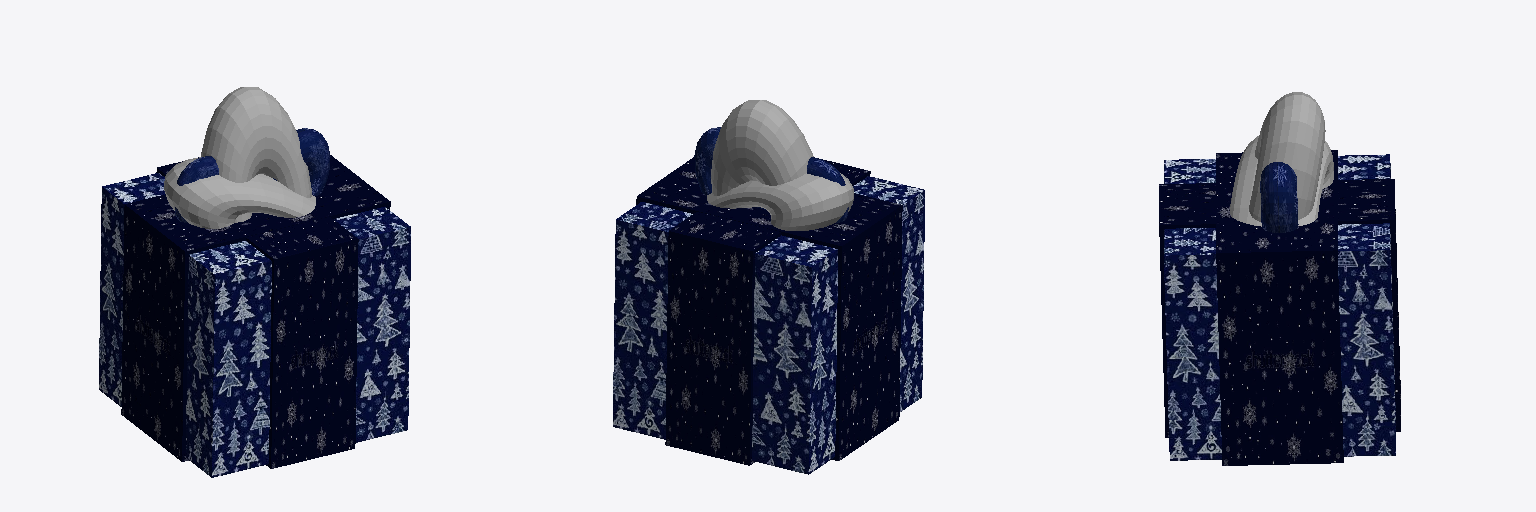
The picture shows the model from 3 angles: view 1: azimuth 30°, elevation 25°; view 2: azimuth 150°, elevation 25°; view 3: azimuth 270°, elevation 25°; orthographic projection.
Parts seen in each view (by area): view 1: present, Box1, Box, Torus3, Torus2, Torus4, Torus; view 2: present, Box1, Box, Torus3, Torus2, Torus4, Torus; view 3: Box, present, Box1, Torus3, Torus4, Torus2.
Boxes of the visible parts, x1,y1,x2,y2 form: present: [99, 173, 410, 477]; Box1: [156, 157, 358, 468]; Box: [121, 155, 390, 461]; Torus3: [201, 87, 311, 222]; Torus2: [164, 157, 315, 228]; Torus4: [273, 128, 330, 195]; Torus: [175, 156, 218, 222]; present: [613, 176, 924, 474]; Box1: [665, 157, 870, 465]; Box: [636, 157, 902, 460]; Torus3: [711, 100, 813, 195]; Torus2: [707, 173, 853, 230]; Torus4: [694, 127, 720, 194]; Torus: [807, 157, 848, 222]; Box: [1216, 150, 1343, 465]; present: [1164, 154, 1395, 460]; Box1: [1159, 179, 1400, 437]; Torus3: [1249, 92, 1325, 221]; Torus4: [1260, 162, 1298, 232]; Torus2: [1230, 136, 1333, 226].
Bounding box in the file's own units: 1.05 × 1.57 × 1.07.
Materials: 4 (3 with a texture image).